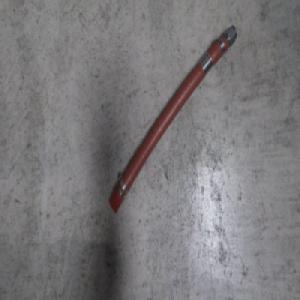Hose: (107, 21, 238, 216)
